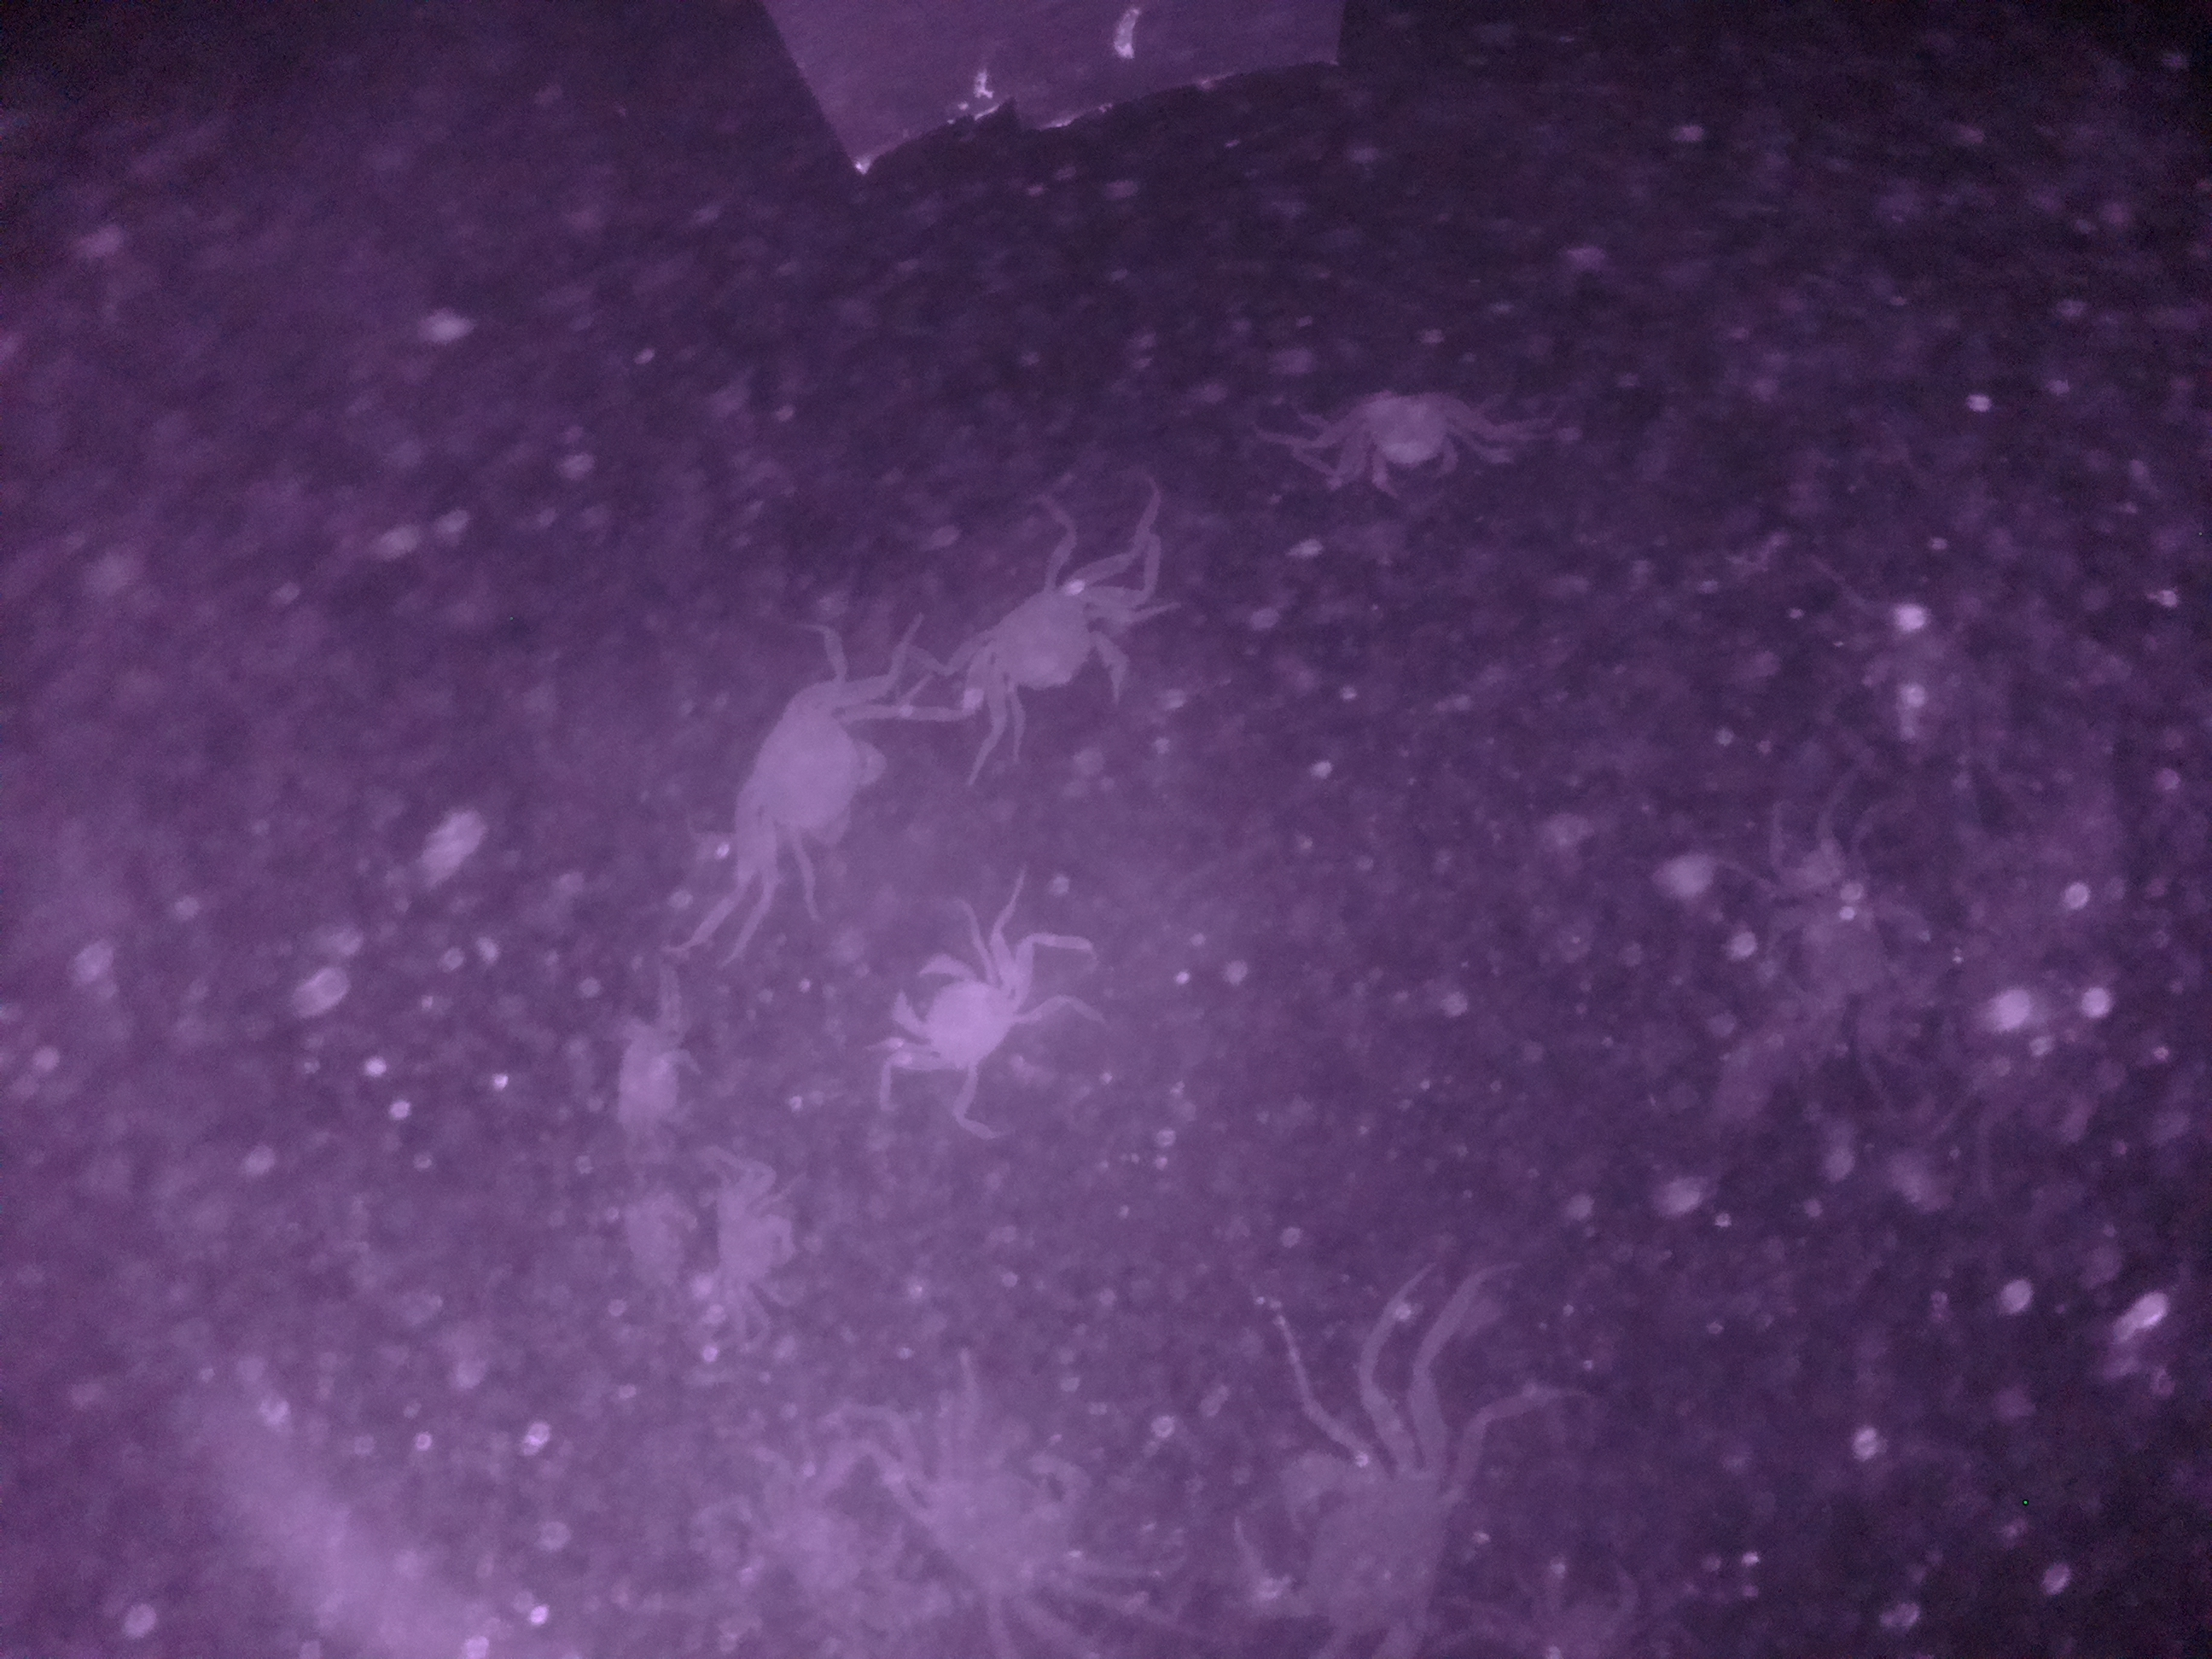Crab: (698, 666, 902, 887), (967, 549, 1146, 744), (876, 911, 1035, 1105), (1332, 366, 1467, 505)
